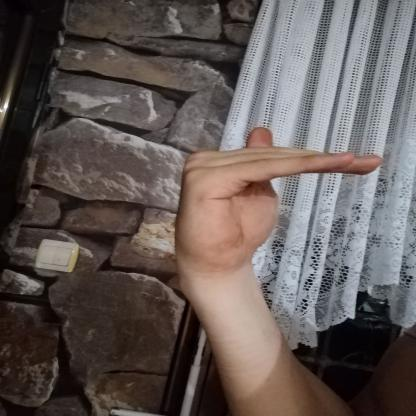KHAA: (156, 117, 394, 300)
